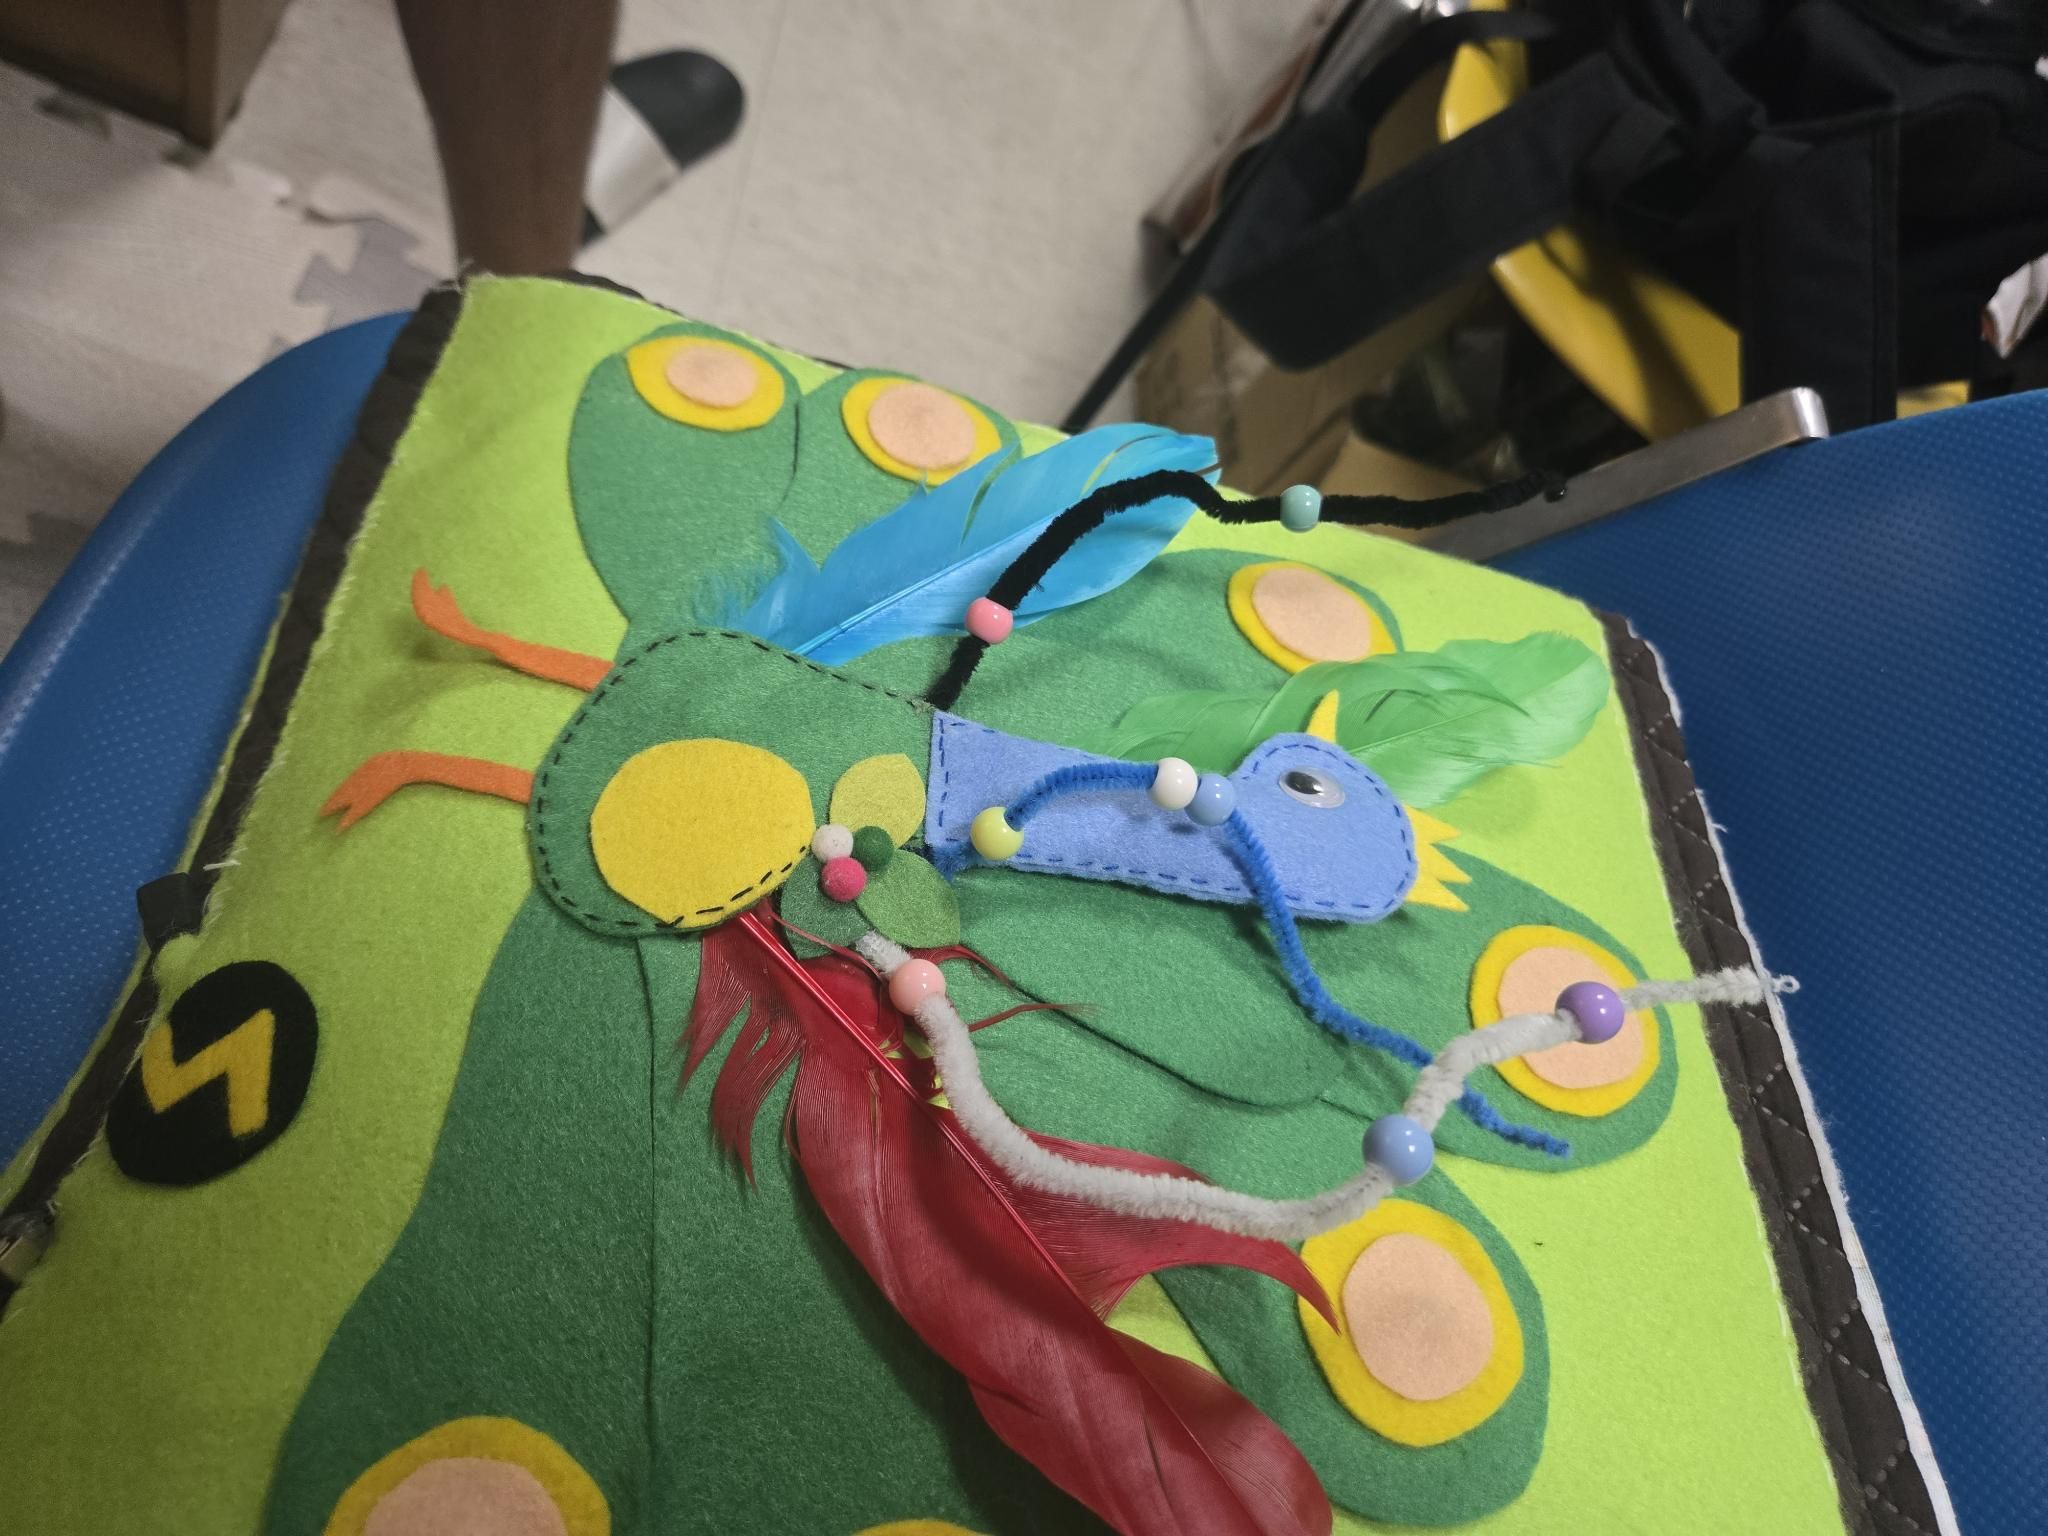bead: (1566, 976, 1629, 1058), (885, 950, 953, 1020), (1372, 1118, 1442, 1181), (968, 807, 1027, 870), (1188, 760, 1242, 826), (1280, 484, 1338, 544), (974, 597, 1019, 652), (1147, 765, 1187, 818)
